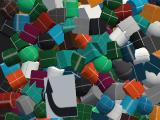Right: (44, 74, 78, 118)
